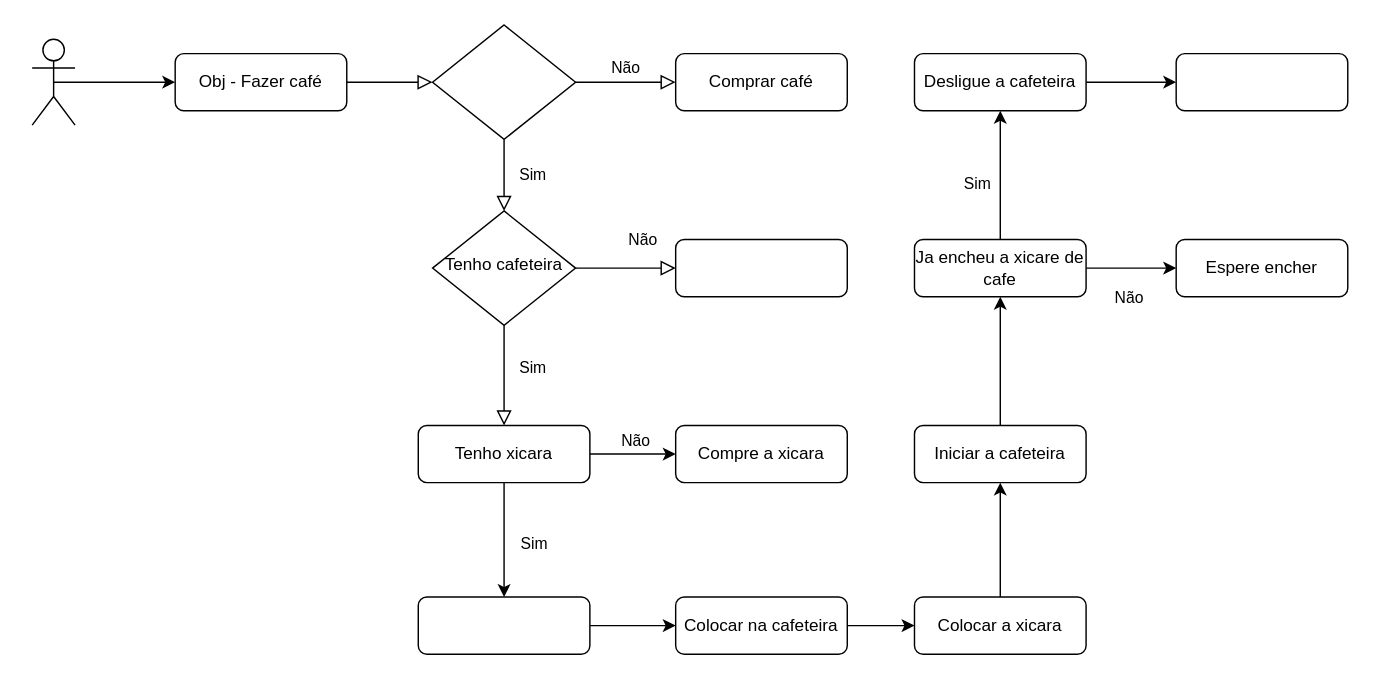
This 1373x679 diagram has some shape labels left out. Each missing label, with the centre of its shape:
Cafe pronto: (x=1261, y=81)
Compra cafeteira: (x=760, y=267)
Pegar o café: (x=503, y=625)
Pessoa: (x=53, y=81)
Tenho café: (x=503, y=81)
